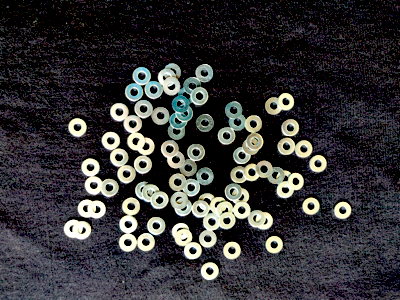circle: (68, 116, 88, 137), (334, 201, 354, 221), (196, 63, 216, 83), (134, 100, 154, 120), (64, 218, 83, 239), (265, 235, 284, 255), (184, 241, 203, 261), (148, 216, 167, 236), (118, 215, 138, 234), (122, 196, 141, 216), (295, 139, 314, 159), (280, 118, 300, 137), (186, 142, 206, 161), (196, 113, 215, 133), (163, 63, 183, 82), (145, 80, 164, 100), (110, 102, 129, 122), (134, 156, 154, 175), (110, 147, 129, 167), (264, 96, 282, 117), (126, 82, 144, 103), (201, 262, 220, 281), (199, 230, 218, 249), (119, 234, 138, 253), (179, 158, 198, 177), (124, 114, 143, 133), (102, 131, 121, 150), (117, 165, 136, 184), (84, 176, 103, 195), (174, 229, 194, 247), (245, 114, 263, 134), (137, 137, 155, 157), (256, 211, 273, 232), (248, 209, 266, 228), (277, 92, 295, 111), (277, 181, 295, 200), (276, 170, 294, 189), (230, 166, 249, 184), (225, 183, 243, 202), (219, 211, 237, 230), (174, 198, 192, 217), (196, 167, 214, 186), (169, 173, 188, 191), (161, 139, 179, 158), (228, 113, 247, 131), (217, 127, 236, 145), (191, 87, 209, 106), (178, 88, 197, 106), (167, 123, 186, 141), (158, 69, 177, 87), (132, 68, 151, 86), (128, 132, 146, 151), (102, 179, 120, 198), (81, 159, 100, 177), (73, 221, 91, 240), (183, 178, 200, 198), (136, 181, 153, 201), (172, 222, 190, 240), (310, 156, 328, 174), (268, 167, 286, 185), (171, 192, 189, 210), (167, 151, 185, 169), (233, 147, 251, 165), (226, 101, 244, 119), (163, 78, 181, 96), (152, 106, 170, 124), (151, 192, 169, 210), (89, 202, 107, 220), (78, 200, 96, 218), (303, 198, 322, 215), (224, 241, 241, 260), (276, 138, 295, 155), (255, 161, 274, 178), (233, 202, 252, 219), (246, 133, 265, 150), (137, 233, 155, 250), (232, 188, 250, 205), (204, 213, 221, 231), (192, 200, 209, 218), (198, 193, 216, 210), (184, 77, 201, 95), (172, 96, 190, 113), (170, 113, 188, 130), (143, 184, 159, 203), (244, 138, 260, 156), (176, 106, 194, 122), (245, 163, 260, 182), (217, 201, 233, 218), (289, 172, 304, 190), (211, 197, 226, 215)
